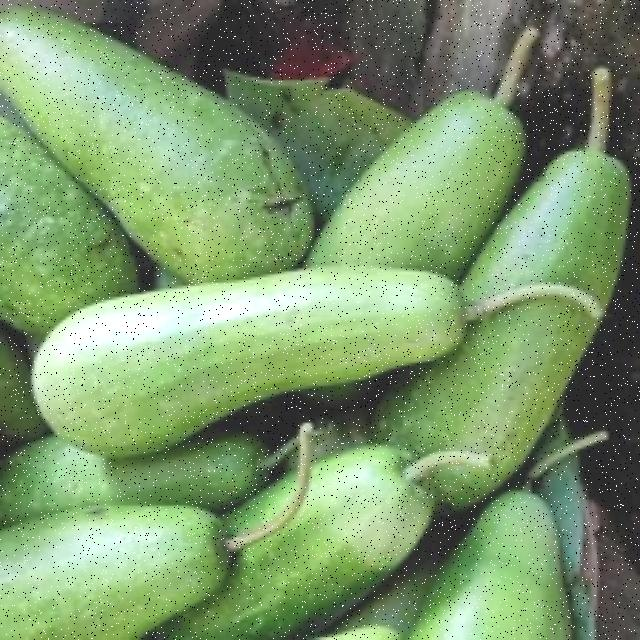Bottle Gourd: (0, 0, 328, 301), (0, 249, 539, 427), (445, 85, 640, 516)
